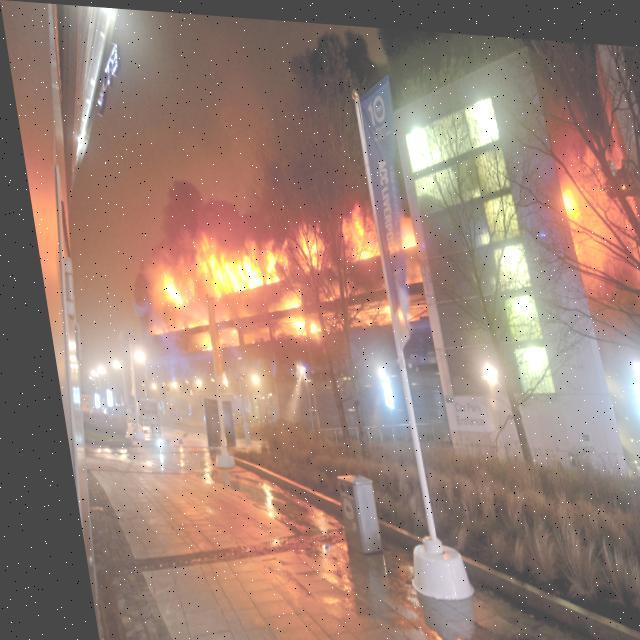Fire: (126, 193, 417, 319)
